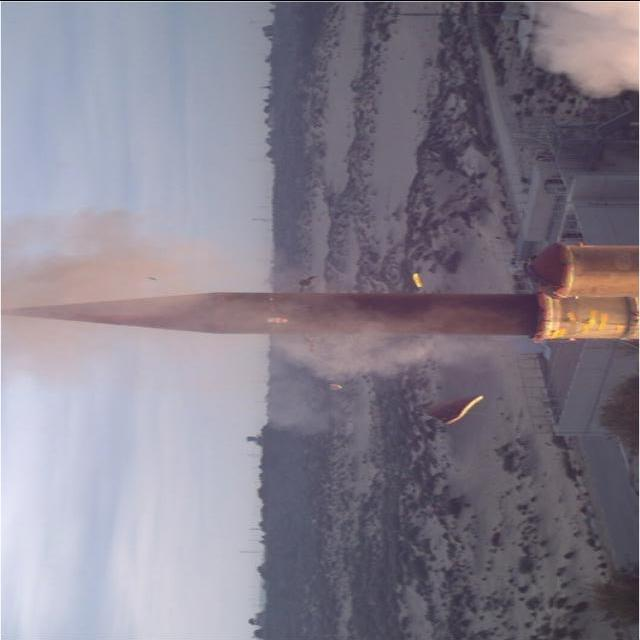missile: (0, 276, 564, 345)
